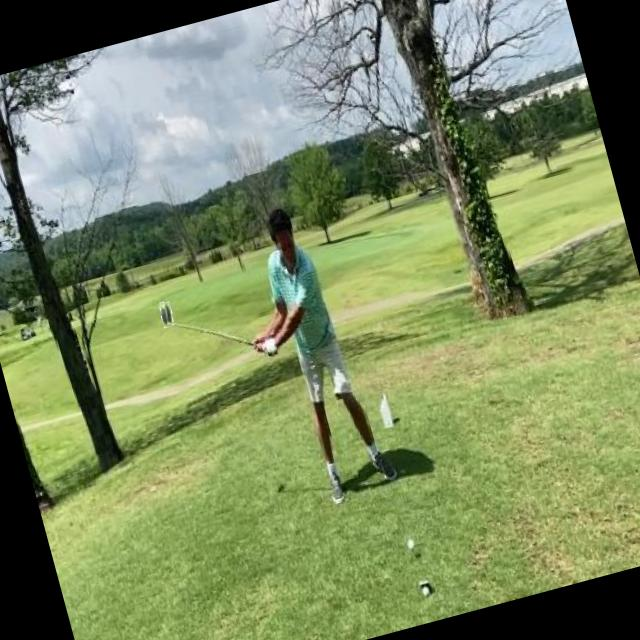club head: (157, 300, 175, 328)
